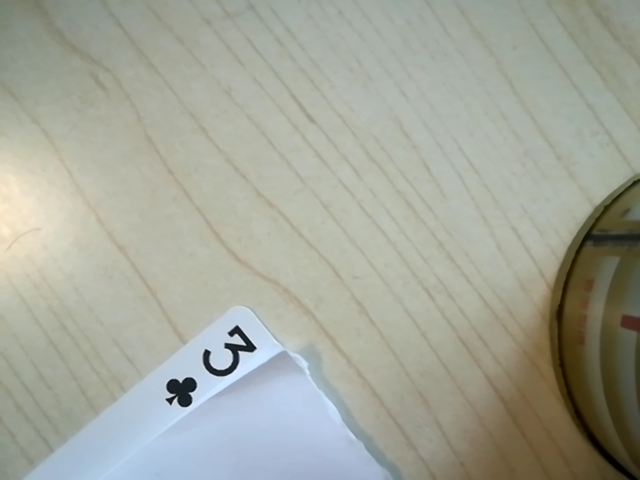mh 3: (159, 320, 272, 416)
